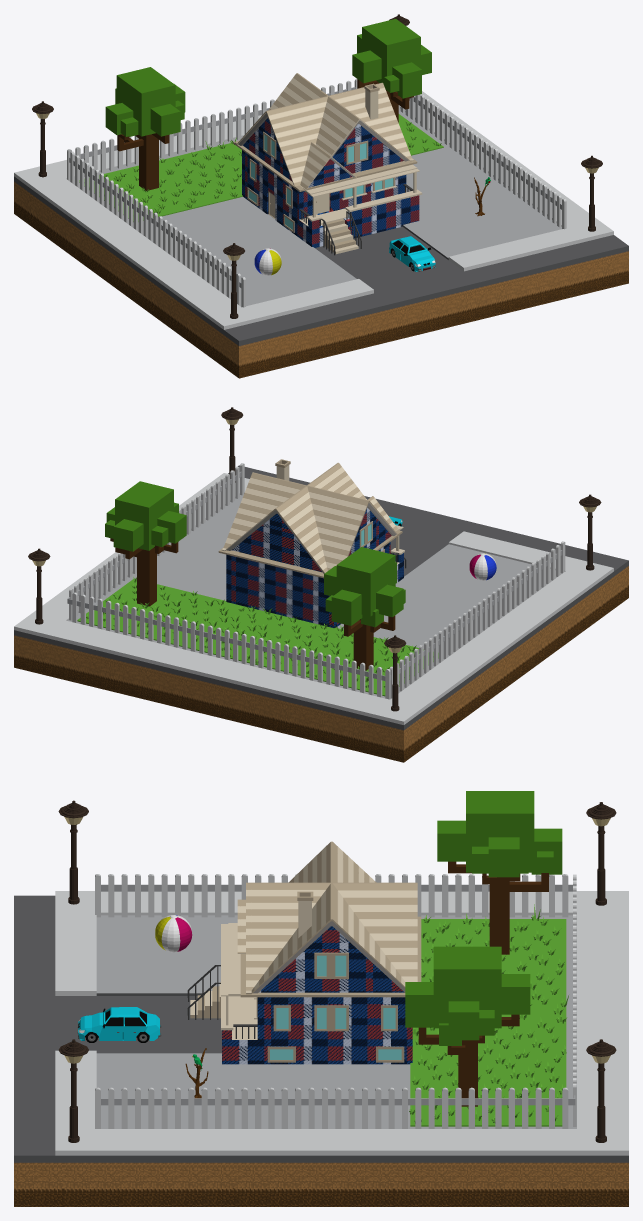
The picture shows the model from 3 angles, top to bottom: view 1: azimuth 30°, elevation 25°; view 2: azimuth 150°, elevation 25°; view 3: azimuth 270°, elevation 25°; orthographic projection. The views are drawn at different scales.
Visible parts, largest first — view 1: Cube.004, Cube.171, VEHICLES_CAR, OBJRANDOM_BEACHBALL; view 2: Cube.004, Cube.171, OBJRANDOM_BEACHBALL; view 3: Cube.004, Cube.171, VEHICLES_CAR, OBJRANDOM_BEACHBALL.
Part boxes in pixels (box(x1,y1,x2,y2)): Cube.004: box(14, 14, 628, 378); Cube.171: box(233, 73, 422, 255); VEHICLES_CAR: box(389, 236, 435, 271); OBJRANDOM_BEACHBALL: box(254, 248, 281, 275); Cube.004: box(14, 407, 628, 762); Cube.171: box(218, 459, 406, 627); OBJRANDOM_BEACHBALL: box(469, 553, 496, 580); Cube.004: box(14, 791, 628, 1206); Cube.171: box(187, 841, 421, 1064); VEHICLES_CAR: box(77, 1007, 161, 1042); OBJRANDOM_BEACHBALL: box(155, 915, 192, 952).
Size of the model in its own units: 4000 by 1604 by 4000.
35 materials, 4 textured.
